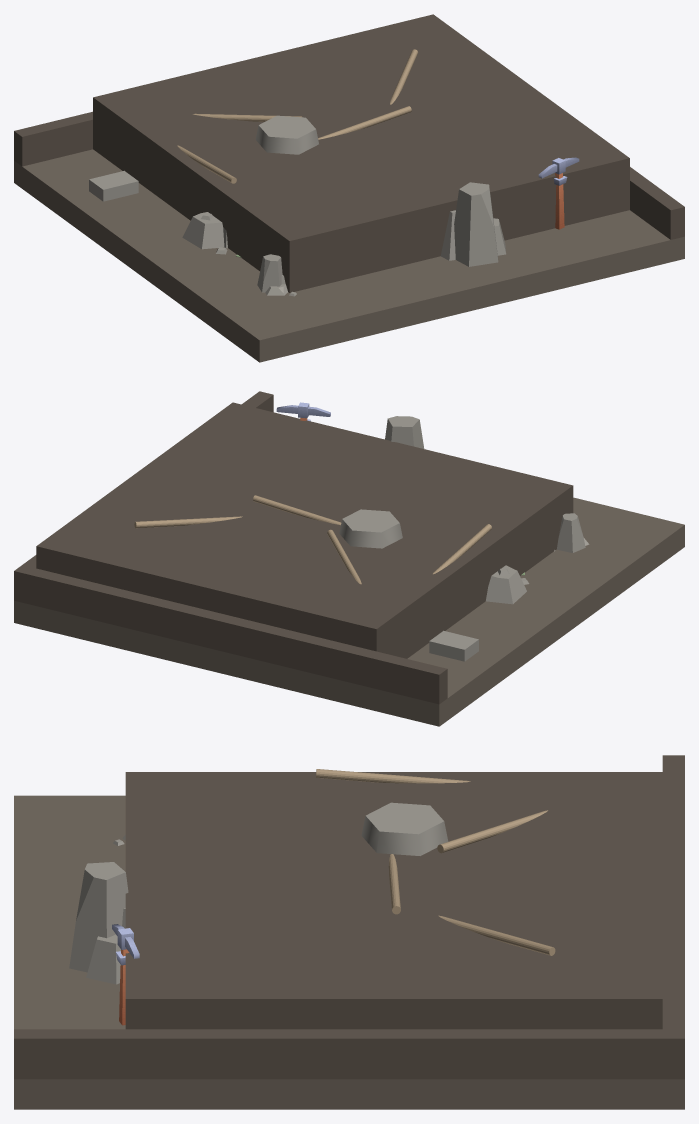
Rendered from rock.glb.
3 renders of one model, top to bottom at view 1: azimuth 30°, elevation 25°; view 2: azimuth 150°, elevation 25°; view 3: azimuth 270°, elevation 25°, orthographic. The views are drawn at different scales.
Visible parts, largest first — view 1: mound, floor, rock-c, edgeY, edgeX, resource-stone, rock-a.001, rubble, rock-a, tool-pickaxe, root.002; view 2: mound, floor, edgeY, resource-stone, rock-a.001, rubble, rock-c, rock-a, edgeX, root.003, root.002, tool-pickaxe; view 3: mound, floor, edgeX, edgeY, rock-c, resource-stone, root, tool-pickaxe, root.003, root.001.
Boxes of the visible parts, x1,y1,x2,y2 form: mound: (93,14,629,292); floor: (14,149,684,362); rock-c: (441,182,506,266); edgeY: (14,111,92,166); edgeX: (630,167,684,239); resource-stone: (255,115,318,154); rock-a.001: (182,212,227,254); rubble: (89,170,138,201); rock-a: (257,254,296,296); tool-pickaxe: (538,157,579,229); root.002: (318,106,411,139); mound: (36,402,573,658); floor: (14,497,684,726); edgeY: (14,567,447,704); resource-stone: (339,509,402,548); rock-a.001: (486,565,529,604); rubble: (429,630,478,661); rock-c: (385,416,424,448); rock-a: (554,513,589,552); edgeX: (14,391,273,600); root.003: (134,516,242,528); root.002: (253,495,341,525); tool-pickaxe: (276,402,330,421); mound: (125,772,662,1029); floor: (14,795,684,1109); edgeX: (14,1029,684,1079); edgeY: (662,755,684,1079); rock-c: (69,862,128,984); resource-stone: (361,802,448,855); root: (316,769,470,783); tool-pickaxe: (112,924,139,1025); root.003: (438,915,555,955); root.001: (437,810,547,853).
Size of the model in its own units: 6 by 1.2 by 6.
6 materials, 1 textured.
